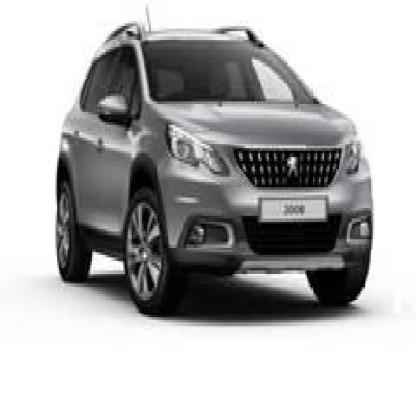Car: (29, 23, 371, 318)
